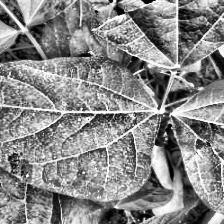Bean Rust: (0, 54, 157, 198), (167, 75, 224, 214)
